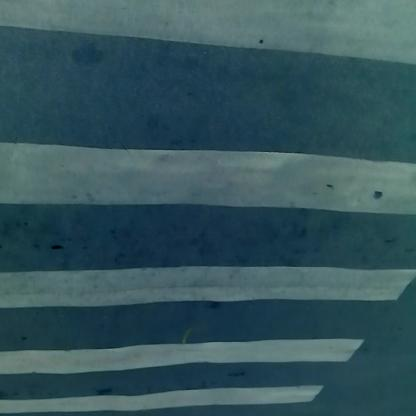crosswalk: (2, 2, 399, 411)
